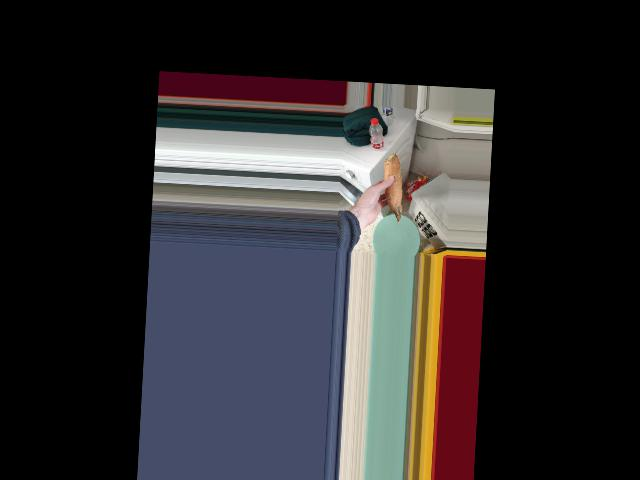sweet_potato: (384, 150, 406, 226)
